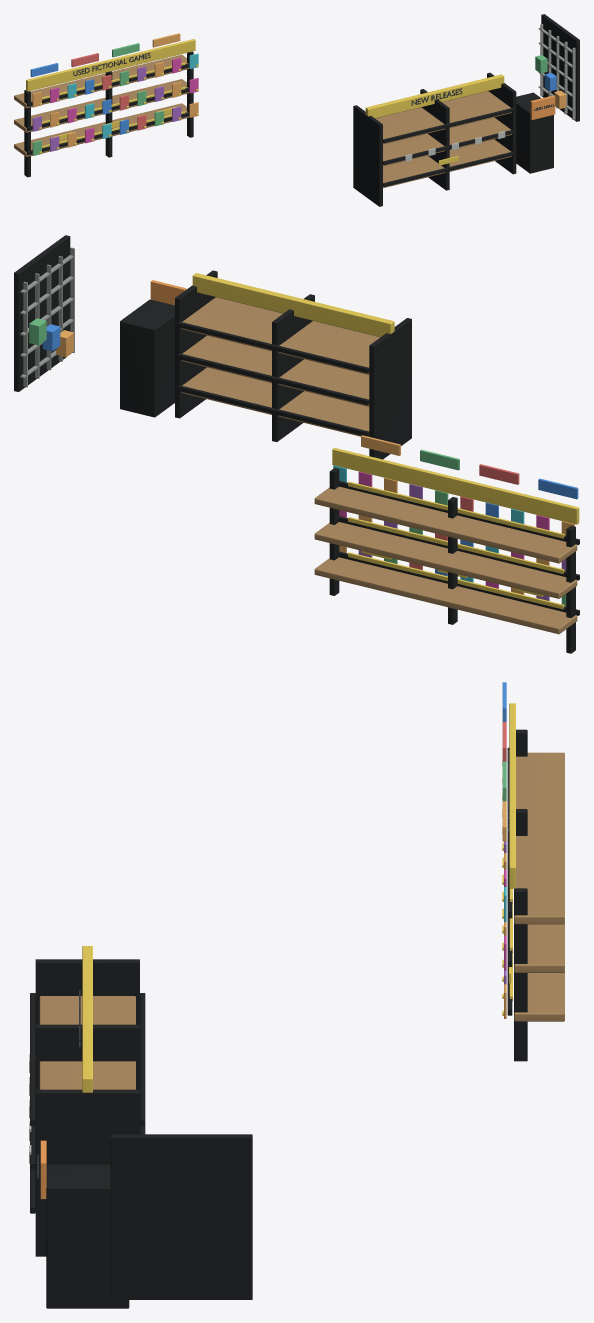
File: starter_shelving_pack.glb
3 renders of one model, top to bottom at view 1: azimuth 30°, elevation 25°; view 2: azimuth 150°, elevation 25°; view 3: azimuth 270°, elevation 25°, orthographic. The views are drawn at different scales.
Visible parts, largest first — view 1: starter_gondola_center_shelf_3, starter_gondola_black_post_0.0, narrow_clearance_endcap_base, used_wall_shelf_header_strip, starter_gondola_center_shelf_1, starter_gondola_center_shelf_2, wire_grid_accessory_panel, starter_gondola_new_release_header, used_wall_shelf_wood_level_2, used_wall_shelf_wood_level_3, starter_gondola_black_post_2.3, used_wall_shelf_wood_level_1 (+13 smaller); view 2: used_wall_shelf_wood_level_1, used_wall_shelf_wood_level_3, used_wall_shelf_wood_level_2, narrow_clearance_endcap_base, starter_gondola_center_shelf_3, starter_gondola_black_post_0.0, used_wall_shelf_header_strip, starter_gondola_center_shelf_2, starter_gondola_center_shelf_1, wire_grid_accessory_panel, starter_gondola_new_release_header, starter_gondola_black_post_2.3 (+14 smaller); view 3: wire_grid_accessory_panel, narrow_clearance_endcap_base, used_wall_shelf_wood_level_3, starter_gondola_black_post_2.3, starter_gondola_center_shelf_3, starter_gondola_black_post_1.15, starter_gondola_black_post_0.0, used_wall_shelf_black_upright_-1.2, used_wall_shelf_wood_level_1, used_wall_shelf_wood_level_2, starter_gondola_new_release_header, used_wall_shelf_header_strip (+2 smaller).
Boxes of the visible parts, x1,y1,x2,y2 form: starter_gondola_center_shelf_3: (375, 91, 511, 144); starter_gondola_black_post_0.0: (353, 105, 382, 206); narrow_clearance_endcap_base: (516, 92, 553, 173); used_wall_shelf_header_strip: (26, 39, 195, 91); starter_gondola_center_shelf_1: (383, 139, 511, 187); starter_gondola_center_shelf_2: (383, 117, 511, 166); wire_grid_accessory_panel: (541, 14, 579, 121); starter_gondola_new_release_header: (365, 74, 504, 118); used_wall_shelf_wood_level_2: (14, 79, 189, 132); used_wall_shelf_wood_level_3: (14, 54, 189, 108); starter_gondola_black_post_2.3: (487, 72, 516, 174); used_wall_shelf_wood_level_1: (14, 103, 189, 157); used_wall_shelf_wood_level_1: (314, 557, 577, 634); used_wall_shelf_wood_level_3: (314, 486, 577, 563); used_wall_shelf_wood_level_2: (314, 522, 577, 598); narrow_clearance_endcap_base: (120, 299, 174, 417); starter_gondola_center_shelf_3: (181, 297, 379, 374); starter_gondola_black_post_0.0: (369, 318, 411, 459); used_wall_shelf_header_strip: (332, 448, 579, 524); starter_gondola_center_shelf_2: (181, 335, 369, 406); starter_gondola_center_shelf_1: (181, 367, 369, 436); wire_grid_accessory_panel: (14, 235, 70, 391); starter_gondola_new_release_header: (192, 273, 394, 336); starter_gondola_black_post_2.3: (175, 270, 217, 418); wire_grid_accessory_panel: (110, 1134, 252, 1299); narrow_clearance_endcap_base: (46, 1164, 129, 1308); used_wall_shelf_wood_level_3: (514, 752, 564, 924); starter_gondola_black_post_2.3: (35, 1089, 139, 1256); starter_gondola_center_shelf_3: (39, 996, 135, 1089); starter_gondola_black_post_1.15: (35, 1024, 139, 1089); starter_gondola_black_post_0.0: (35, 959, 139, 1024); used_wall_shelf_black_upright_-1.2: (514, 888, 527, 1061); used_wall_shelf_wood_level_1: (514, 972, 564, 1021); used_wall_shelf_wood_level_2: (514, 924, 564, 972); starter_gondola_new_release_header: (82, 946, 92, 1092); used_wall_shelf_header_strip: (509, 703, 515, 888).
Bounding box in the file's own units: 7.8 × 1.88 × 4.
